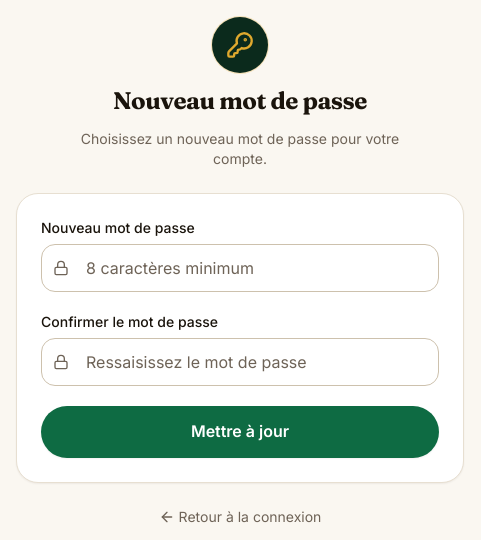
Test: Back-office reset-password › avec un token : nouveau mot de passe confirmé → succès
Type "nouveau1234" into the password field labelled "Nouveau mot de passe" at {"x": 240, "y": 268}, box x1=41 y1=244 x2=439 y2=292
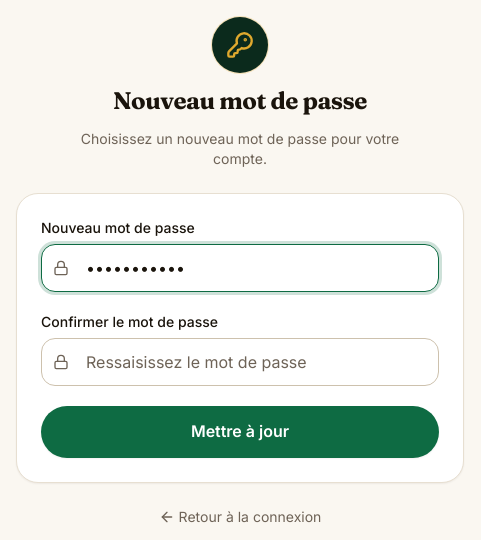
Type "nouveau1234" into the password field labelled "Confirmer le mot de passe" at {"x": 240, "y": 362}, box x1=41 y1=338 x2=439 y2=386
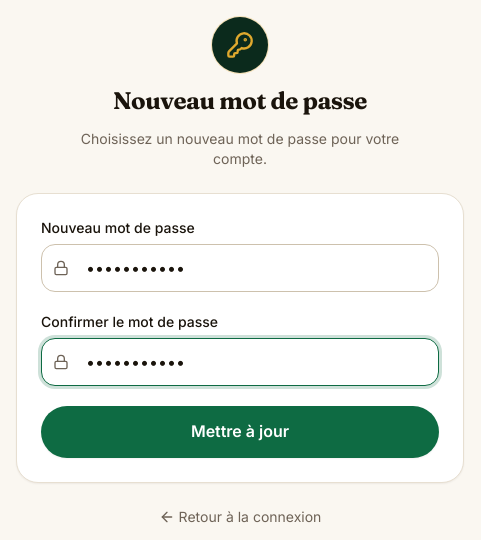
Click the button "Mettre à jour" at {"x": 240, "y": 432}, box x1=41 y1=406 x2=439 y2=458
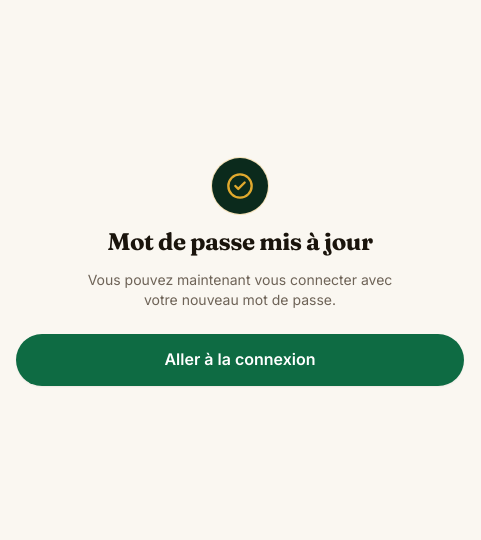
Now the heading "Mot de passe mis à jour" is shown, box x1=108 y1=226 x2=373 y2=258
